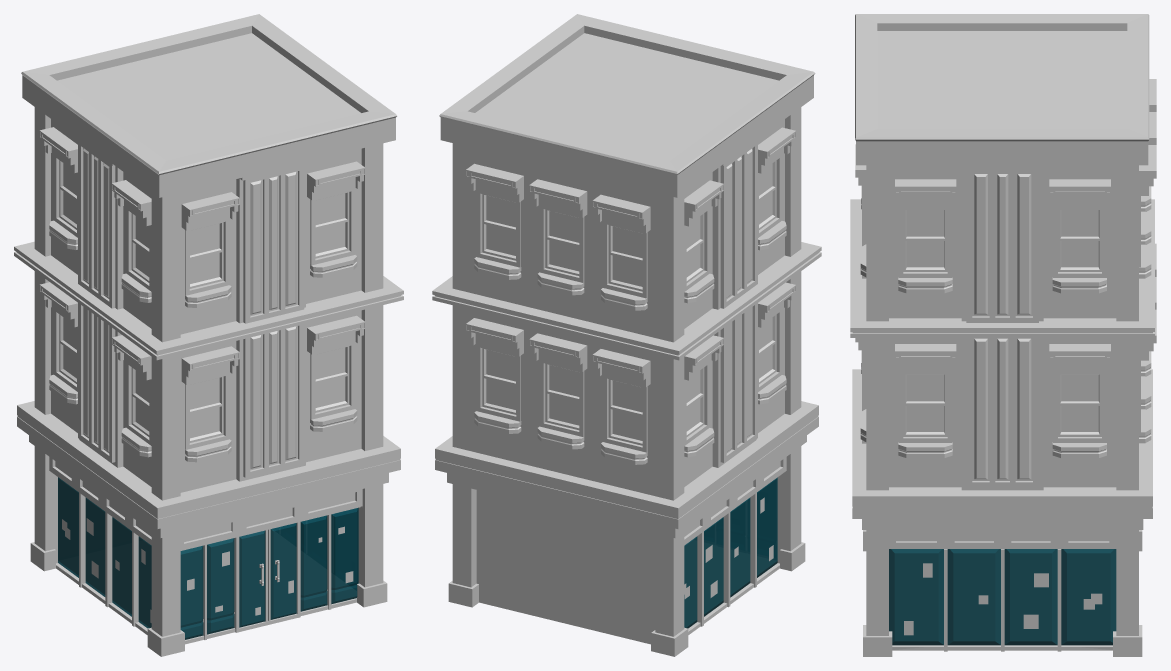
Rendered from shop_05_large.fbx.
The picture shows the model from 3 angles, left to right: view 1: azimuth 30°, elevation 25°; view 2: azimuth 150°, elevation 25°; view 3: azimuth 270°, elevation 25°; orthographic projection. The views are drawn at different scales.
Parts seen in each view (by area): view 1: shop_05_large, shop_05_glass_large; view 2: shop_05_large, shop_05_glass_large; view 3: shop_05_large, shop_05_glass_large.
Part boxes in pixels (left/top/right/bottom): shop_05_large: left=14, top=14, right=403, bottom=656; shop_05_glass_large: left=58, top=477, right=358, bottom=639; shop_05_large: left=432, top=14, right=821, bottom=656; shop_05_glass_large: left=684, top=477, right=777, bottom=628; shop_05_large: left=850, top=14, right=1156, bottom=656; shop_05_glass_large: left=889, top=549, right=1116, bottom=645.
Bounding box in the file's own units: 671 × 1269 × 674.
